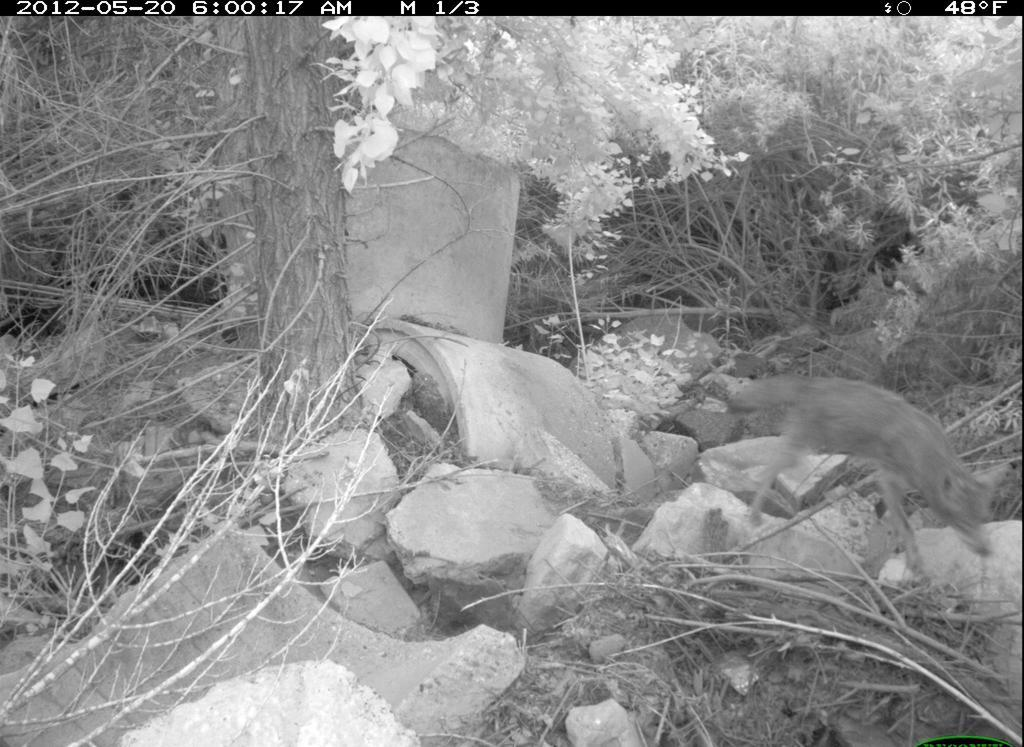coyote: (721, 373, 1014, 597)
